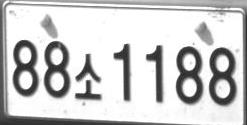1: (111, 43, 139, 101), (143, 44, 171, 102)
8: (208, 46, 237, 106), (175, 45, 203, 105), (12, 38, 39, 97), (43, 40, 70, 98)
소: (74, 53, 101, 100)
